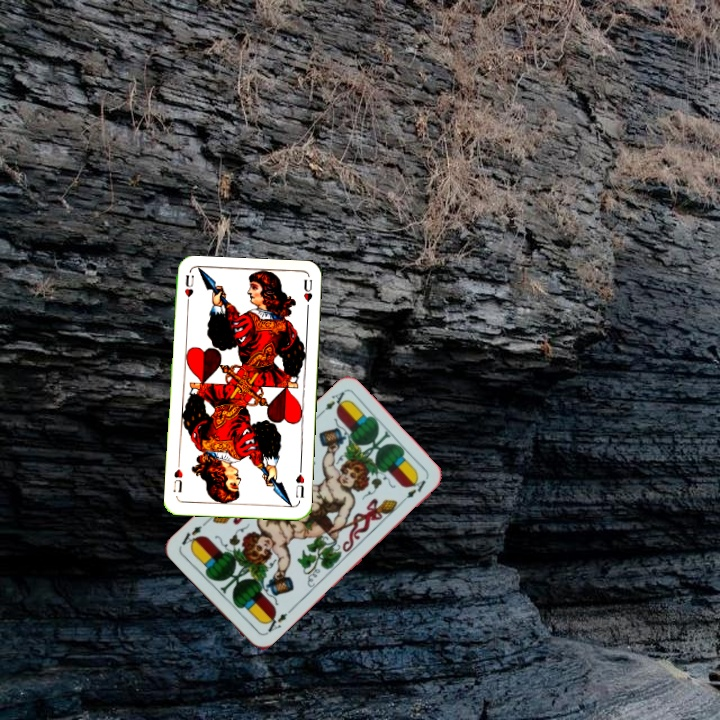EA: (314, 387, 349, 418), (260, 606, 294, 637)
HU: (180, 271, 196, 311), (292, 464, 307, 500)
